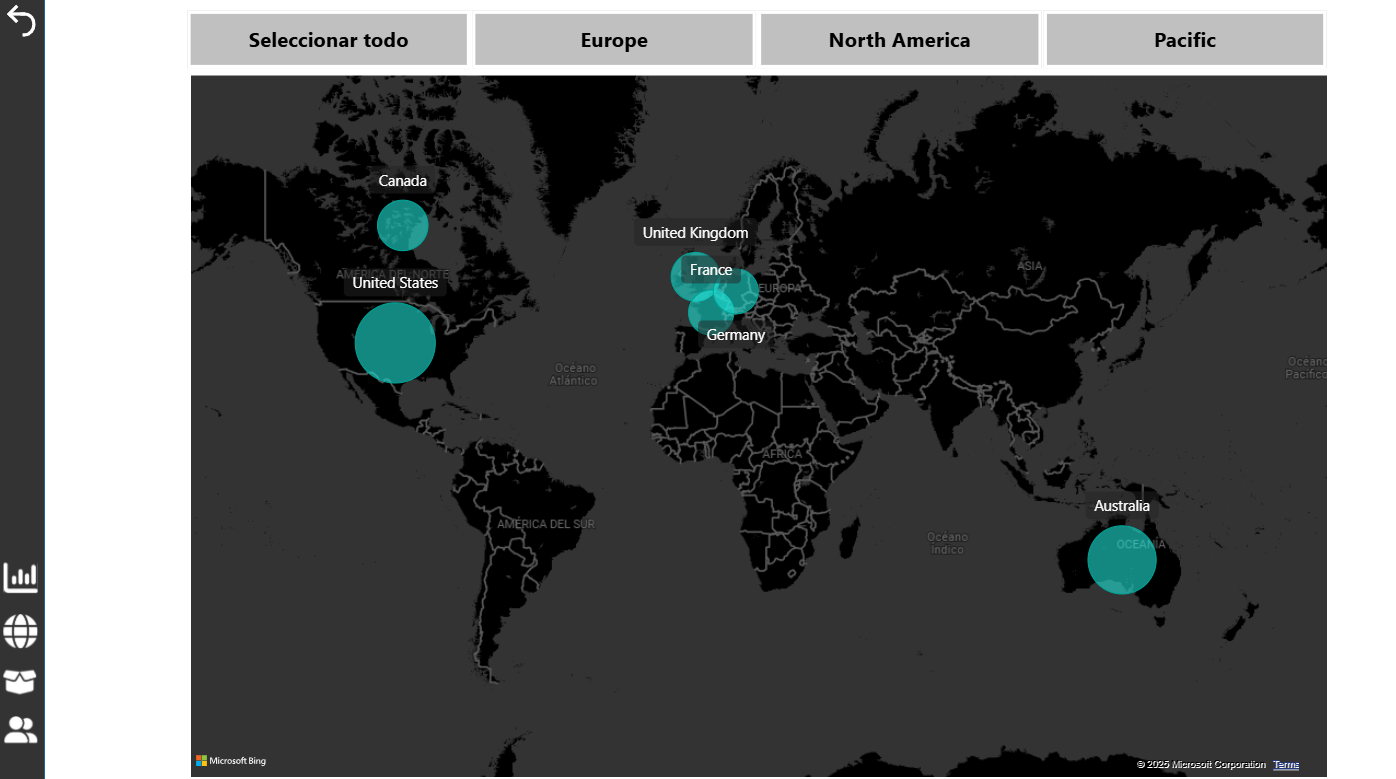

What the dashboard file says about the page in this screenshot:
{"tool":"powerbi","page":{"name":"Map","canvas":[1280,720],"ordinal":1},"visuals":[{"type":"shape","title":"Left Nav Background","box":[0,0,45,720.3],"z":0},{"type":"actionButton","box":[2.5,513.6,45.7,39.5],"z":0,"group":"g1"},{"type":"map","fields":{"Category":["Territory Lookup.Country"],"Size":["Measure Table.Total Orders"]},"box":[172.8,8.7,1047.8,712],"z":1000},{"type":"actionButton","box":[2.5,562.6,45.5,39.4],"z":1000,"group":"g1"},{"type":"slicer","fields":{"Values":["Territory Lookup.Continent"]},"box":[148.9,8.7,1091.3,66.3],"z":2000},{"type":"actionButton","box":[2.8,610,45.1,38],"z":2000,"group":"g1"},{"type":"actionButton","box":[3.7,653.1,45.7,38.3],"z":3000,"group":"g1"},{"type":"group","id":"g1","title":"Navegation Buttons","box":[2.5,513.6,46.9,177.8],"z":3000},{"type":"actionButton","box":[3.7,4.9,45.4,39.3],"z":4000}]}

Visuals, with their boxes on the page's 1280x720 design canvas (x1, y1, x2, y2). These are canvas units, not pixel positions in the 1396x779 screenshot, which may show the page scaled, cropped or inside an application window:
"Left Nav Background" shape: [0, 0, 45, 720]
actionButton: [2, 514, 48, 553]
map - Territory Lookup.Country x Measure Table.Total Orders: [173, 9, 1221, 721]
actionButton: [2, 563, 48, 602]
slicer - Territory Lookup.Continent: [149, 9, 1240, 75]
actionButton: [3, 610, 48, 648]
actionButton: [4, 653, 49, 691]
"Navegation Buttons" group: [2, 514, 49, 691]
actionButton: [4, 5, 49, 44]
